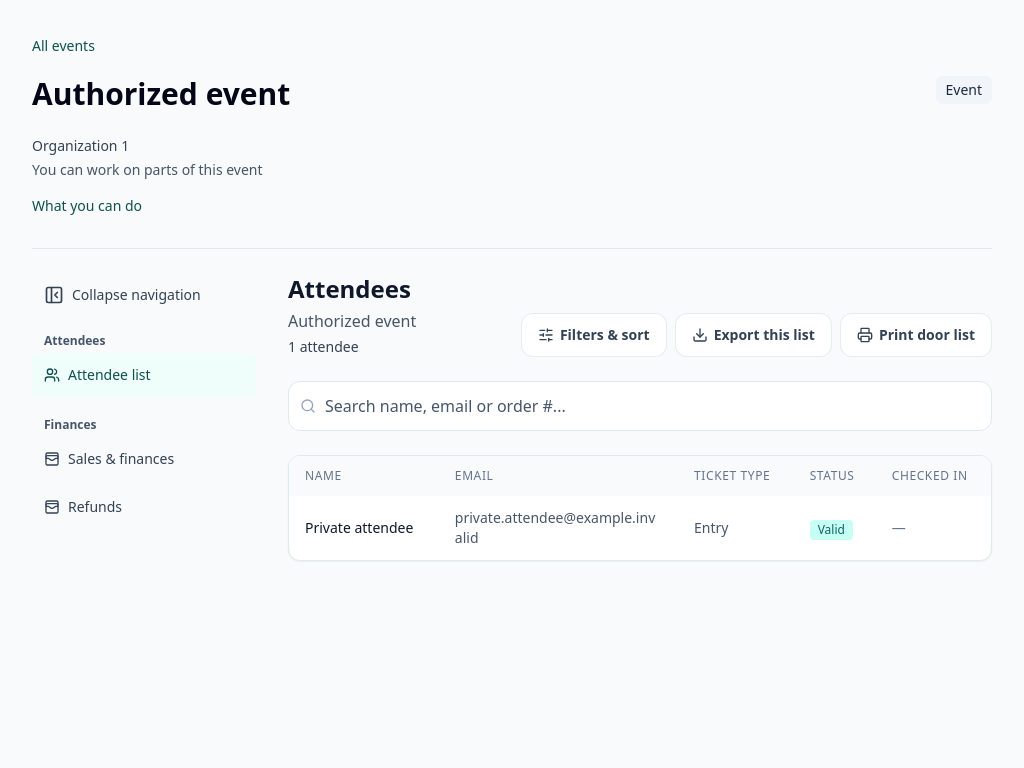
Test: current attendee authorization withdrawal › fences an earlier list success after a newer permission failure and verified retry
Type "old" into the field with placeholder "Search name, email or order #..." at coordinates (640, 406), box [288,381,992,431]
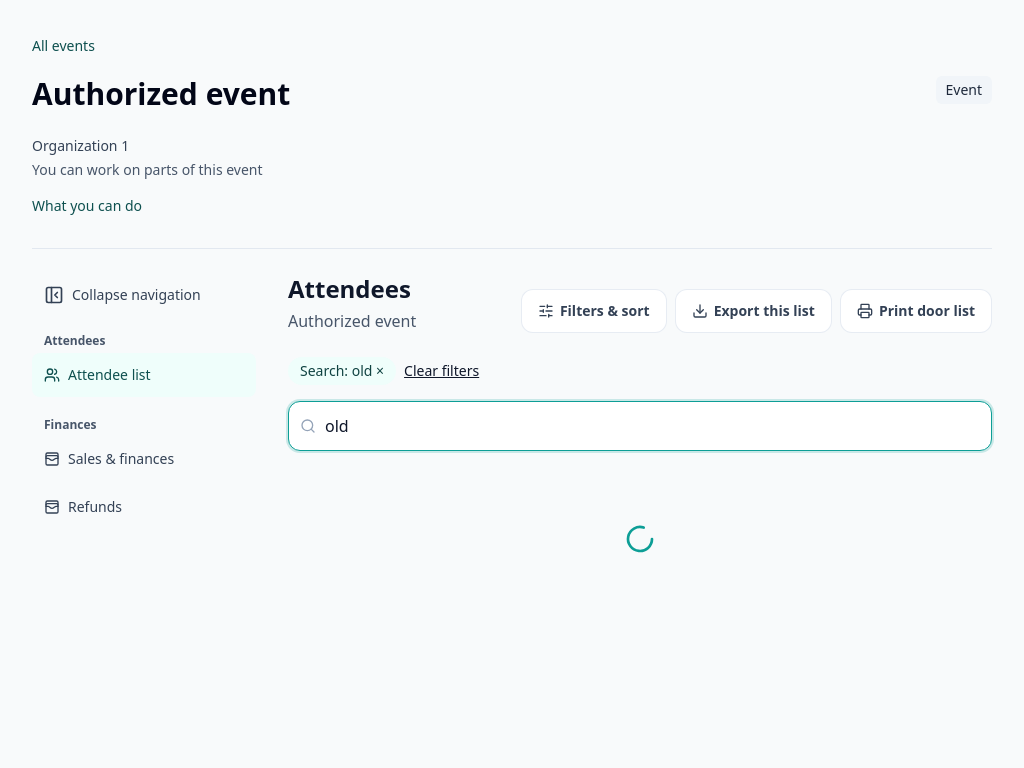
Clear the field with placeholder "Search name, email or order #..." at coordinates (640, 426), box [288,401,992,451]
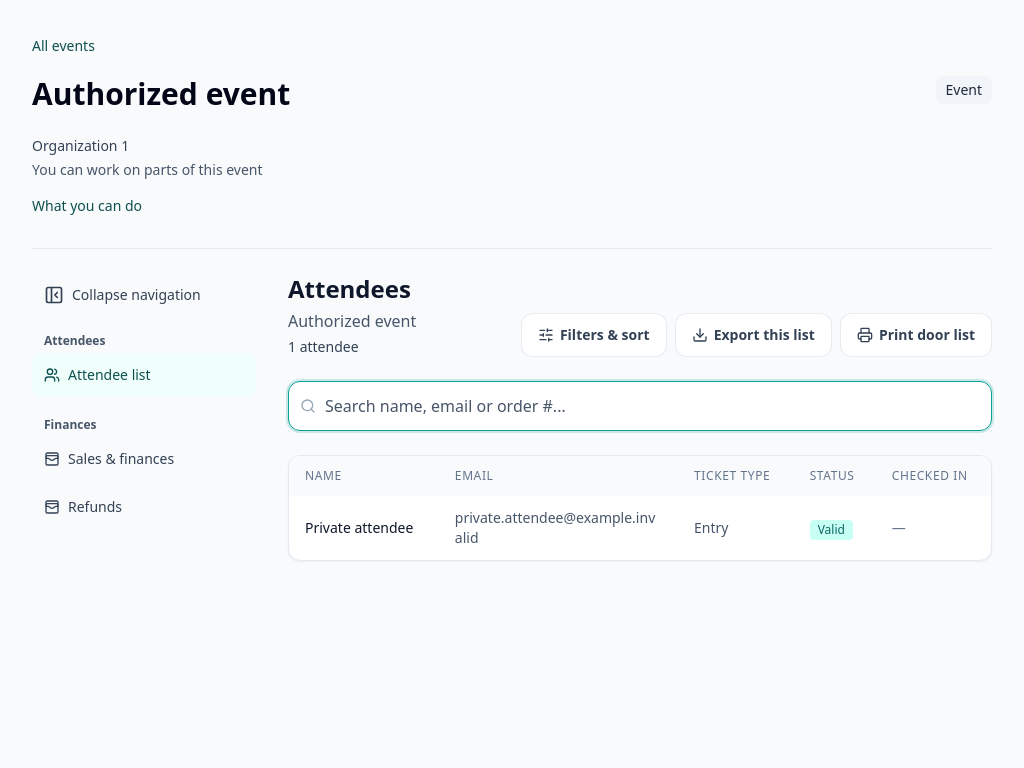
Type "denied" into the field with placeholder "Search name, email or order #..." at coordinates (640, 406), box [288,381,992,431]
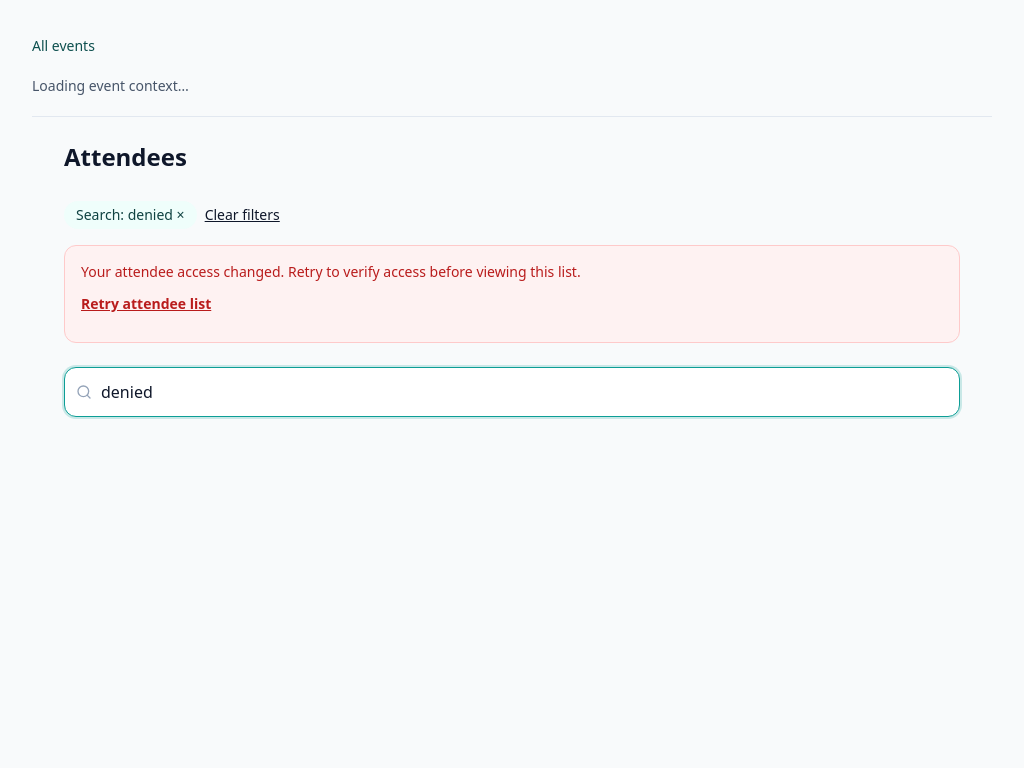
Expected: the message is shown, [64,245,960,343]
Click the button "Retry attendee list" at coordinates (146, 304), box [81,282,211,326]
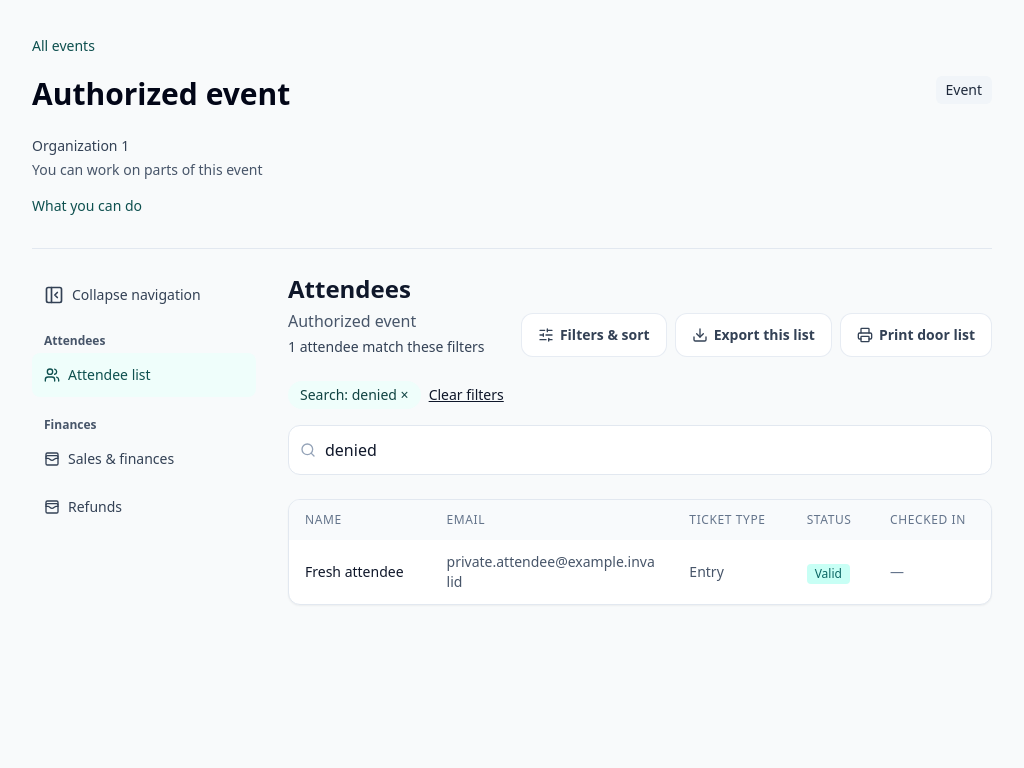
Expected: the text "Fresh attendee" is shown, [289,540,430,604]
